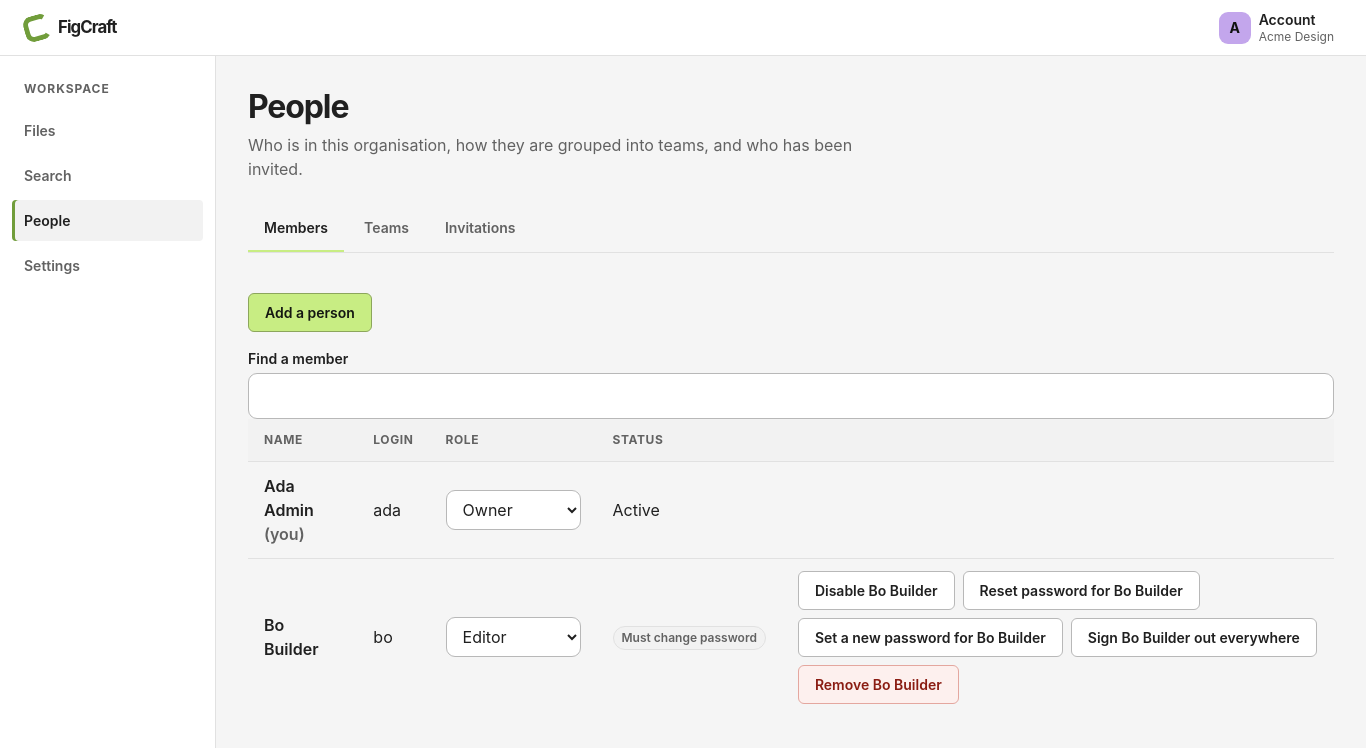
Test: temporary passwords set by an administrator › adds a person with a generated temporary password shown once
The width and height of the screenshot is (1366, 748).
Step 1. Click the button with test id "addperson-open" → click(310, 312), box [248, 293, 372, 332]
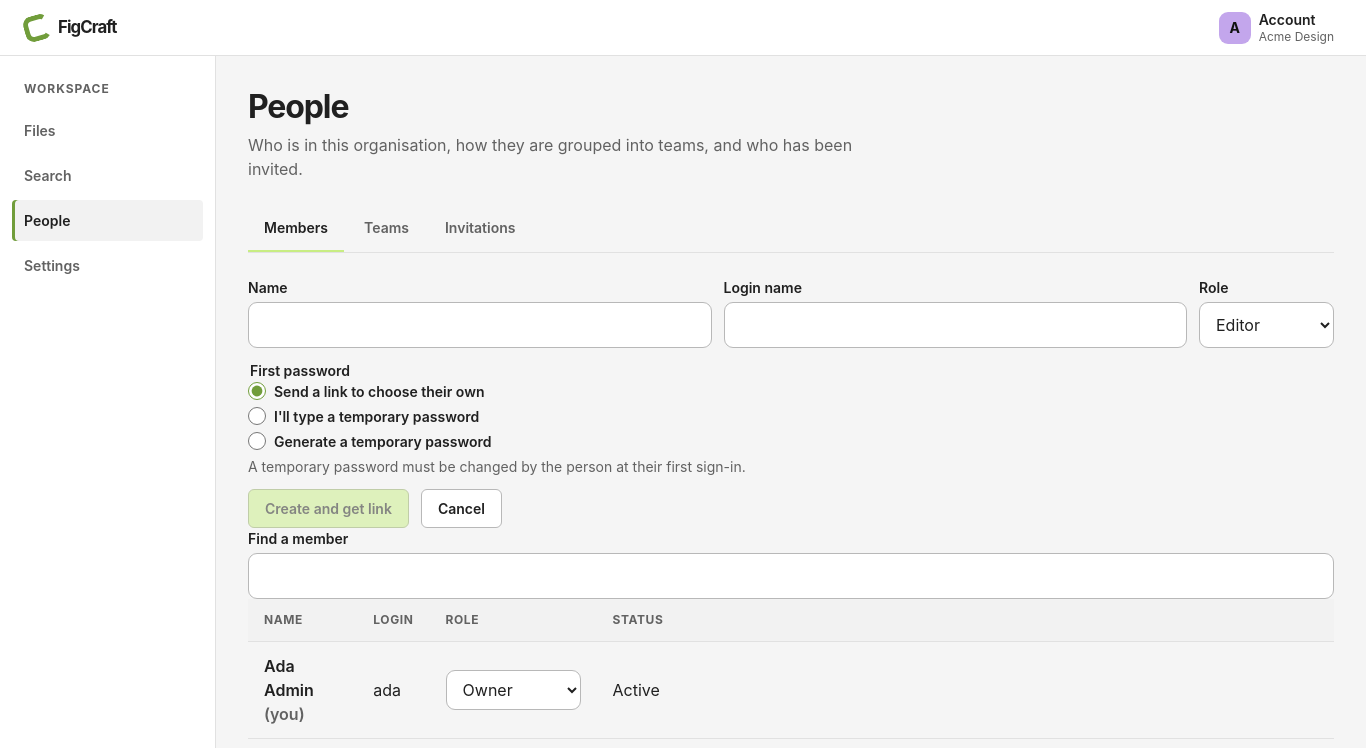
Step 2. Type "Dee" into the field with test id "addperson-name" → (480, 325), box [248, 302, 712, 348]
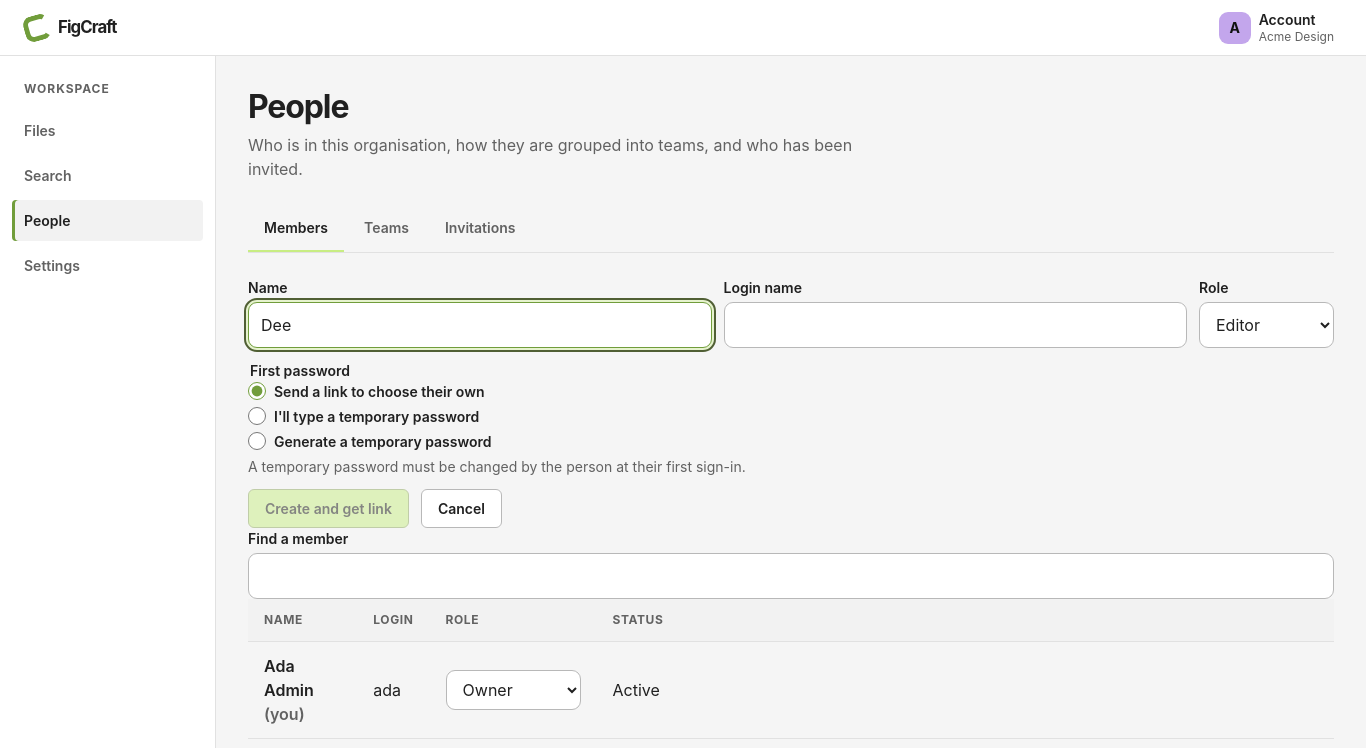
Step 3. Type "dee" into the field with test id "addperson-login" → (955, 325), box [724, 302, 1187, 348]
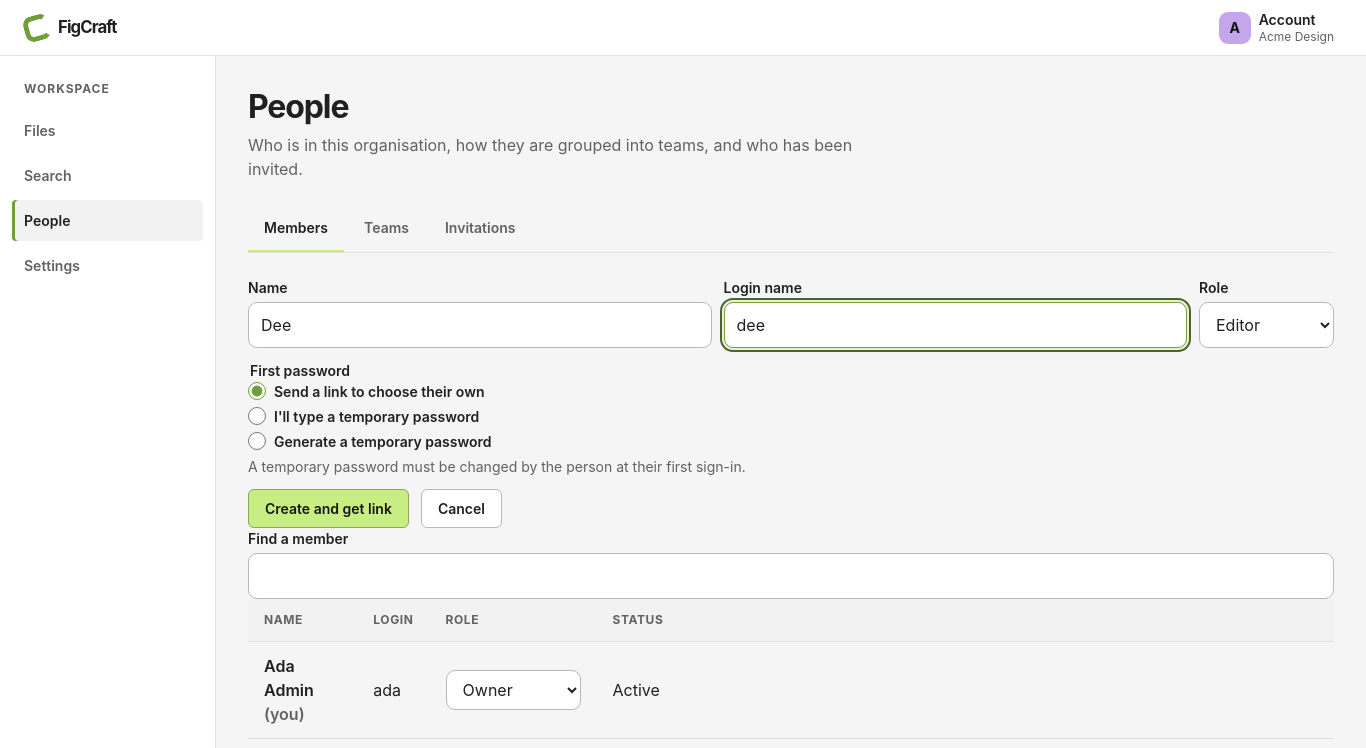
Step 4. Click the radio button with test id "addperson-how-generate" → click(257, 441), box [248, 432, 266, 450]
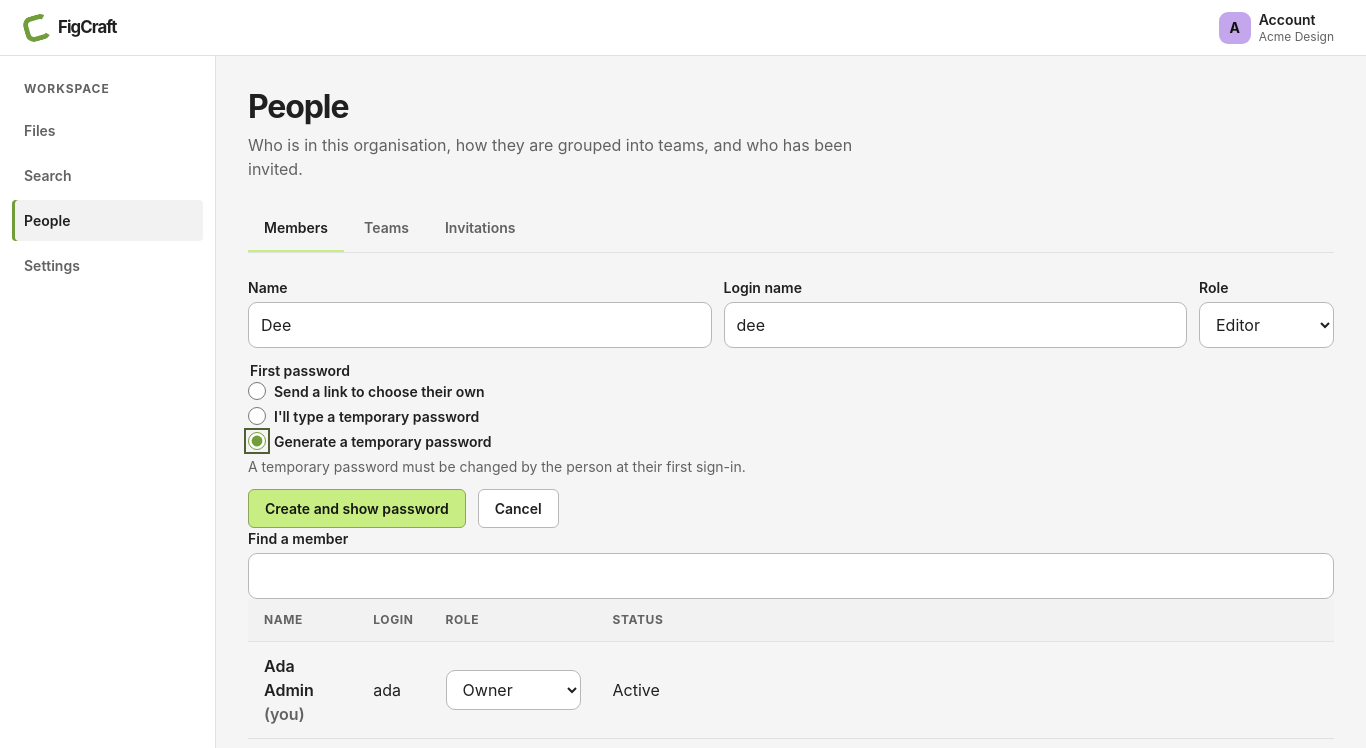
Step 5. Click the button with test id "addperson-submit" → click(357, 508), box [248, 489, 466, 528]
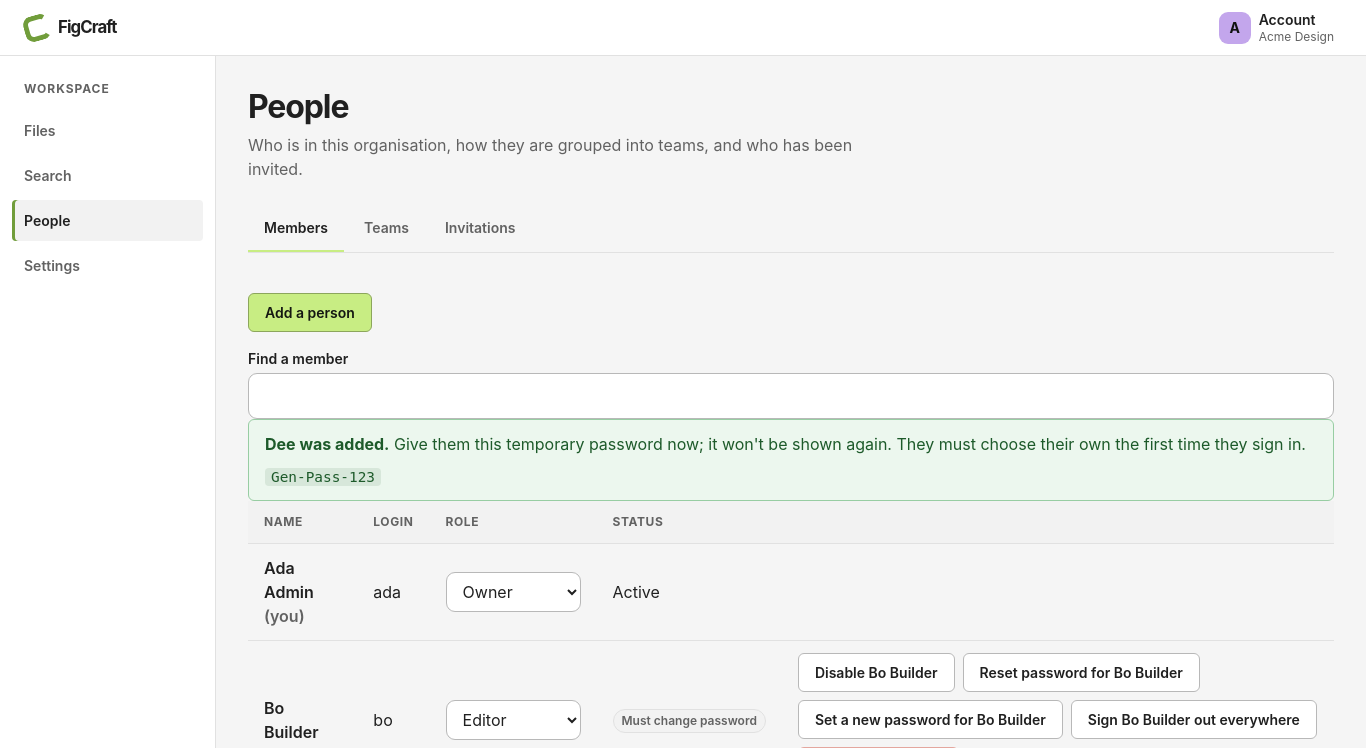
Check: the text with test id "onetime-password-value" reads "Gen-Pass-123", box [271, 469, 375, 485]
Check: the message with test id "onetime-password" shows "won't be shown again", box [394, 434, 1306, 454]
Check: the message with test id "onetime-password" shows "must choose their own", box [394, 434, 1306, 454]
